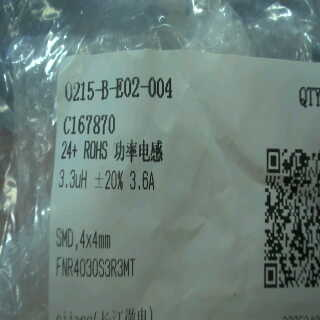3.3uH: (55, 165, 92, 194)
